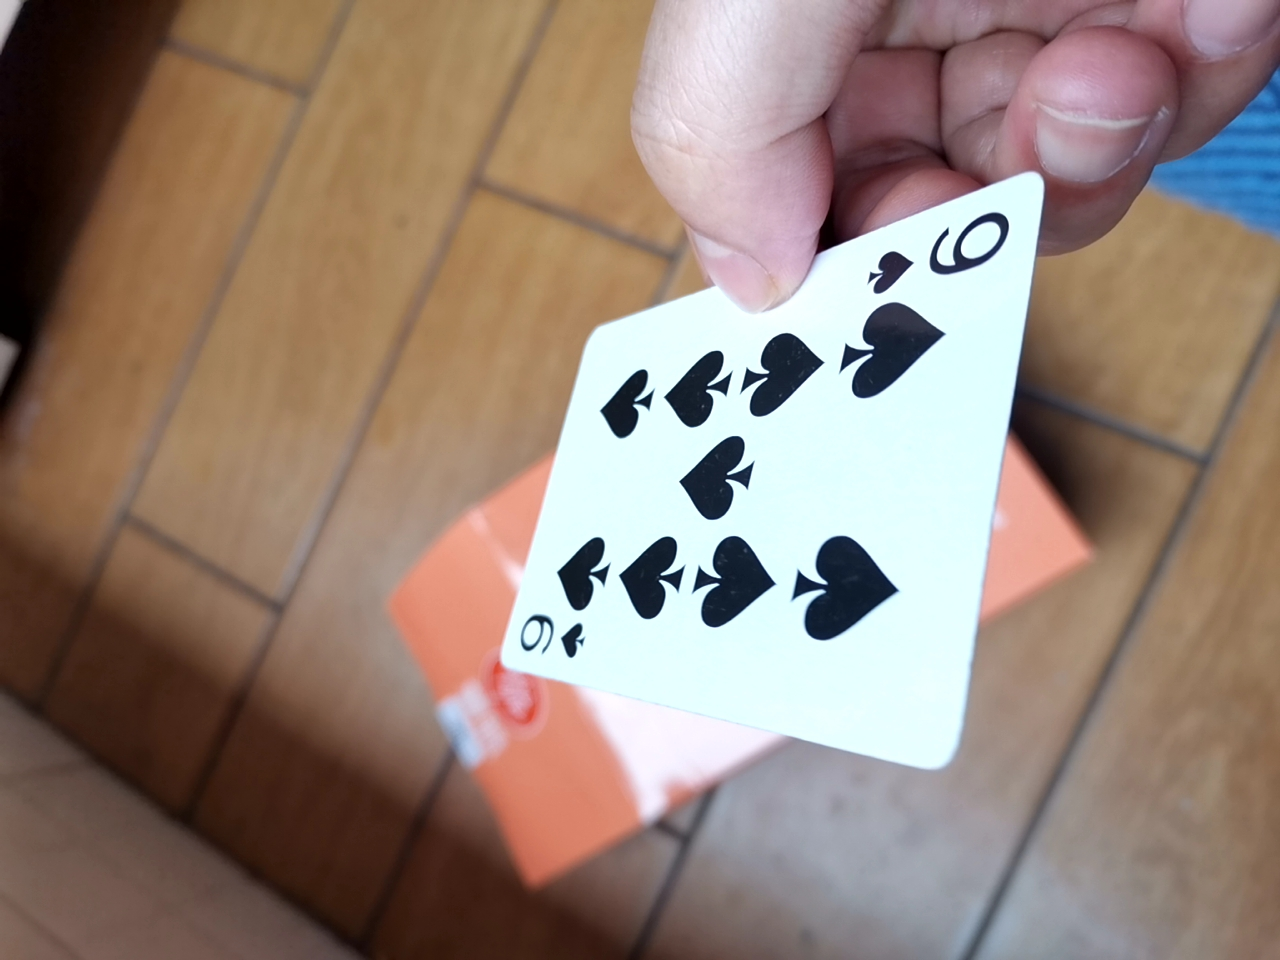ht 9: (500, 190, 1043, 813)
